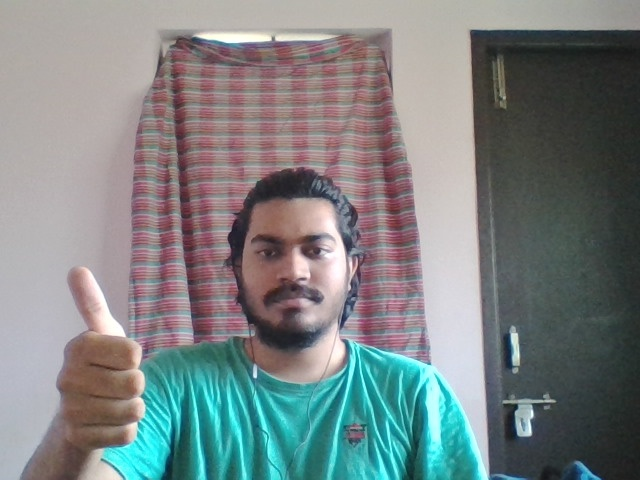ThumbsUp: (56, 266, 147, 454)
